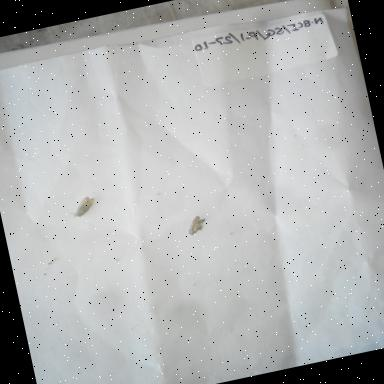pbw: (61, 189, 99, 222), (174, 210, 212, 242)
